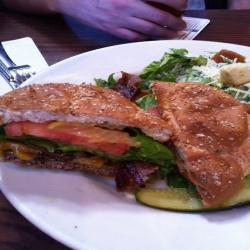burger: (137, 79, 250, 214), (1, 80, 136, 187)
salad: (129, 51, 209, 82)
